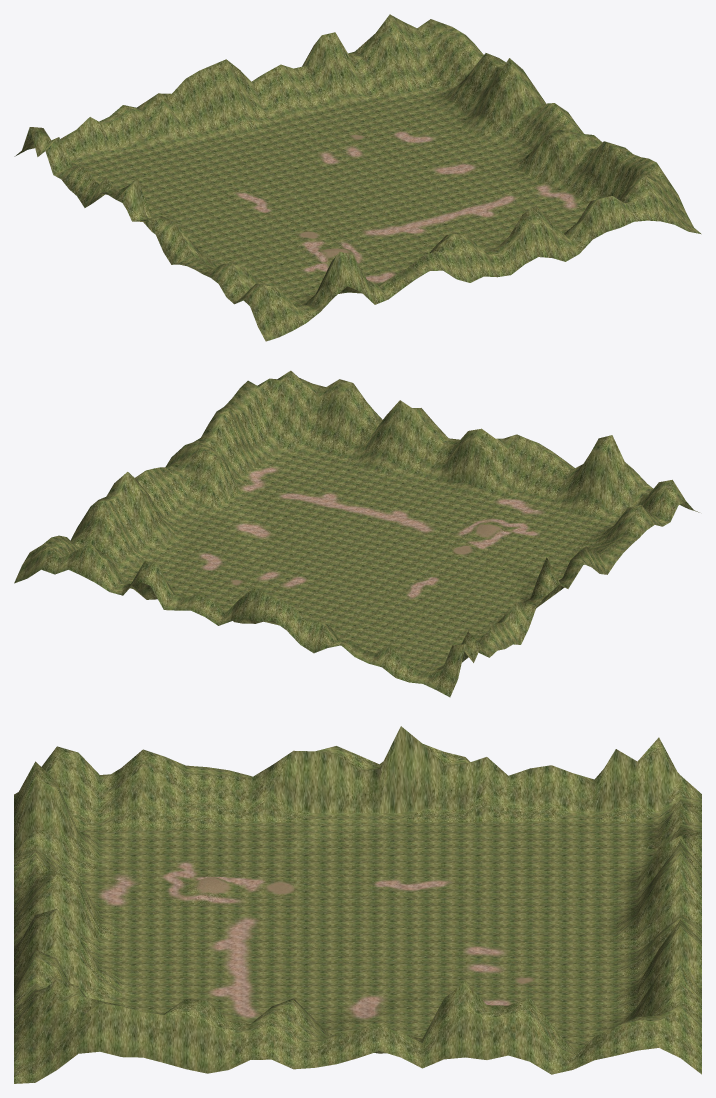
3 views of the same model, one above another, from view 1: azimuth 30°, elevation 25°; view 2: azimuth 150°, elevation 25°; view 3: azimuth 270°, elevation 25° (orthographic). The views are drawn at different scales.
Visible parts, largest first — view 1: Mesh; view 2: Mesh; view 3: Mesh.
Part boxes in pixels (left/top/right/bottom): Mesh: left=14, top=14, right=701, bottom=341; Mesh: left=14, top=370, right=699, bottom=697; Mesh: left=14, top=726, right=701, bottom=1083.
Size of the model in its own units: 100 by 14.12 by 100.
1 material, 1 textured.
